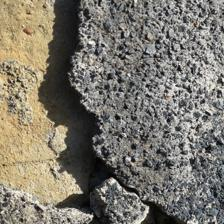Crack: (30, 3, 92, 180)
